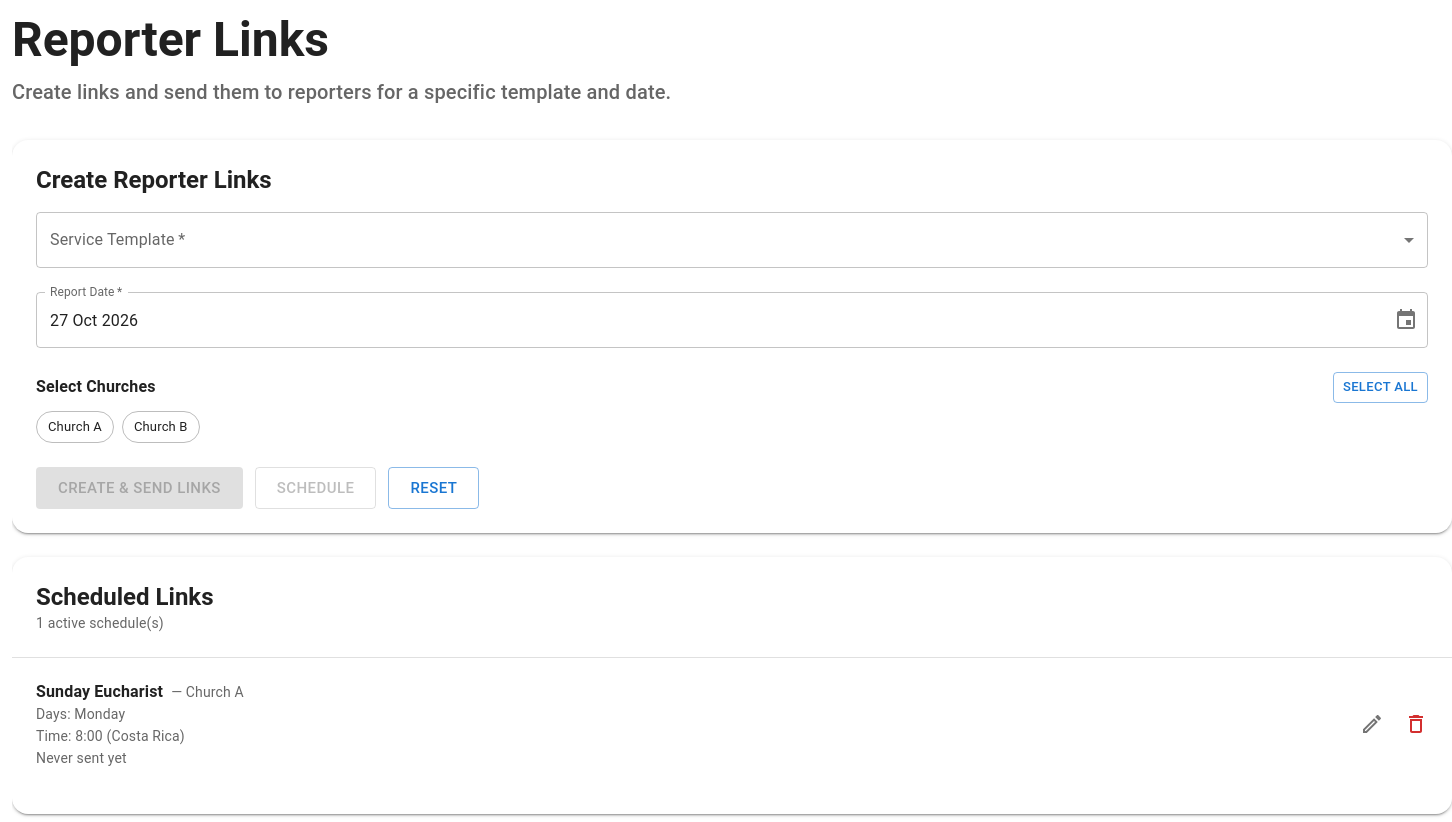
ReporterLinkManagementPage – schedule section › shows an error when deleting a schedule fails
This screenshot has width=1452, height=822.
Click the button named "delete schedule": (1416, 724) [1396,704,1436,744]
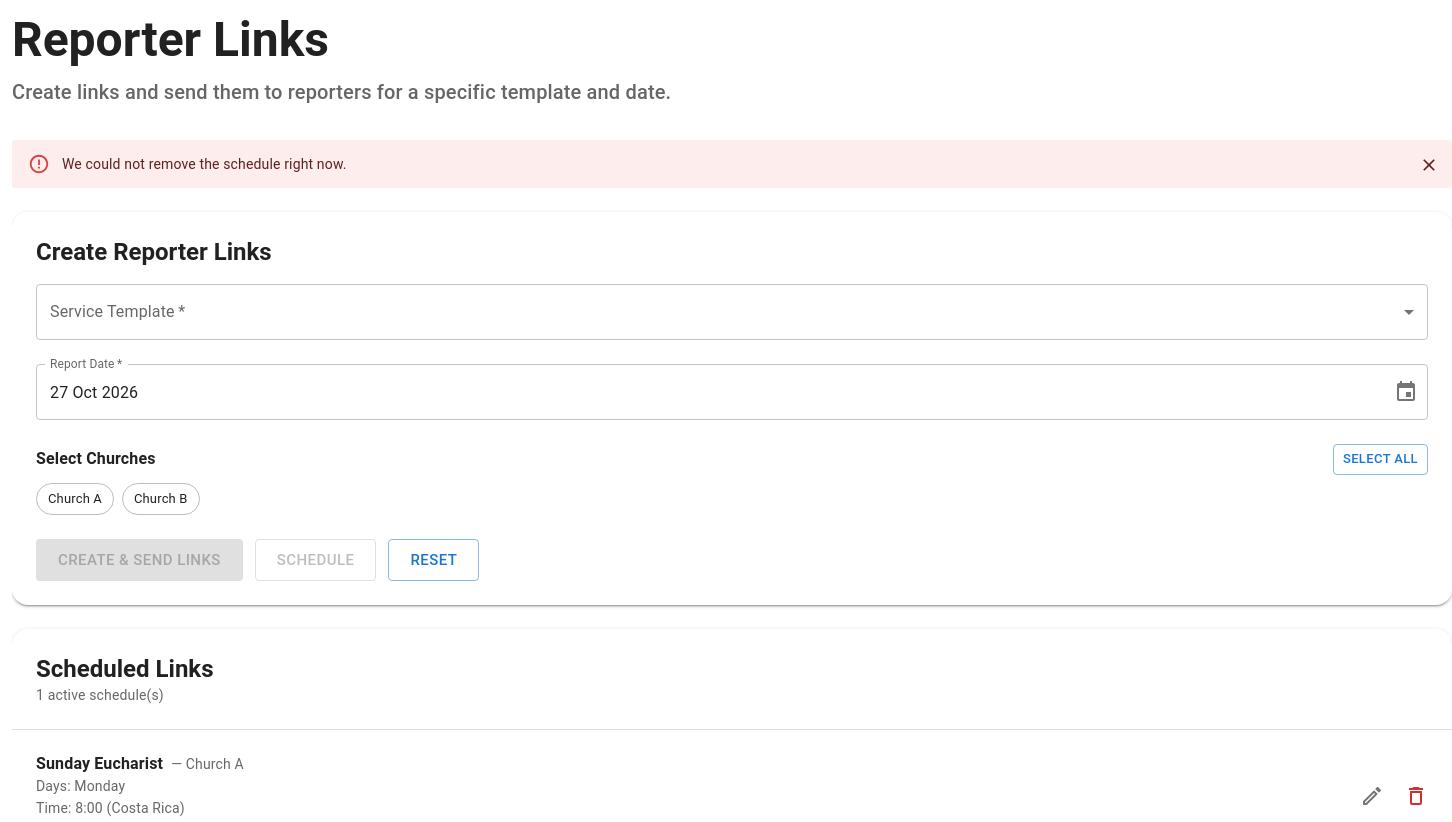
Check: the text "Sunday Eucharist" is shown, box [36,752,163,776]
Check: the text "We could not remove the schedule right now." is shown, box [62,156,347,172]
